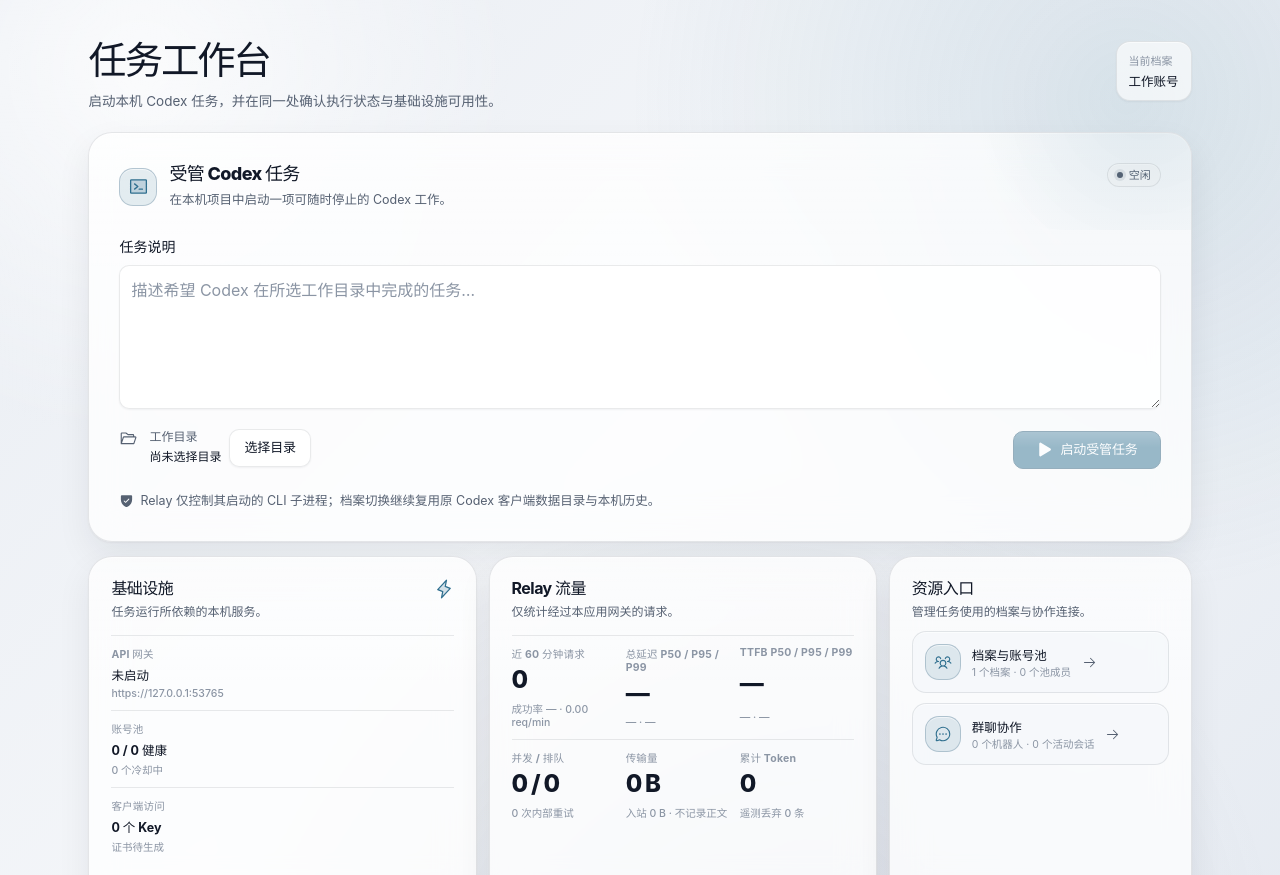
Test: Dashboard managed Codex task › starts one managed task only after a folder and instruction are supplied
Expected: the button "启动受管任务" is disabled, [1013, 431, 1161, 469]
Step 1. Type "检查当前改动" into the text box labelled "任务说明" → (640, 337), box [119, 265, 1161, 409]
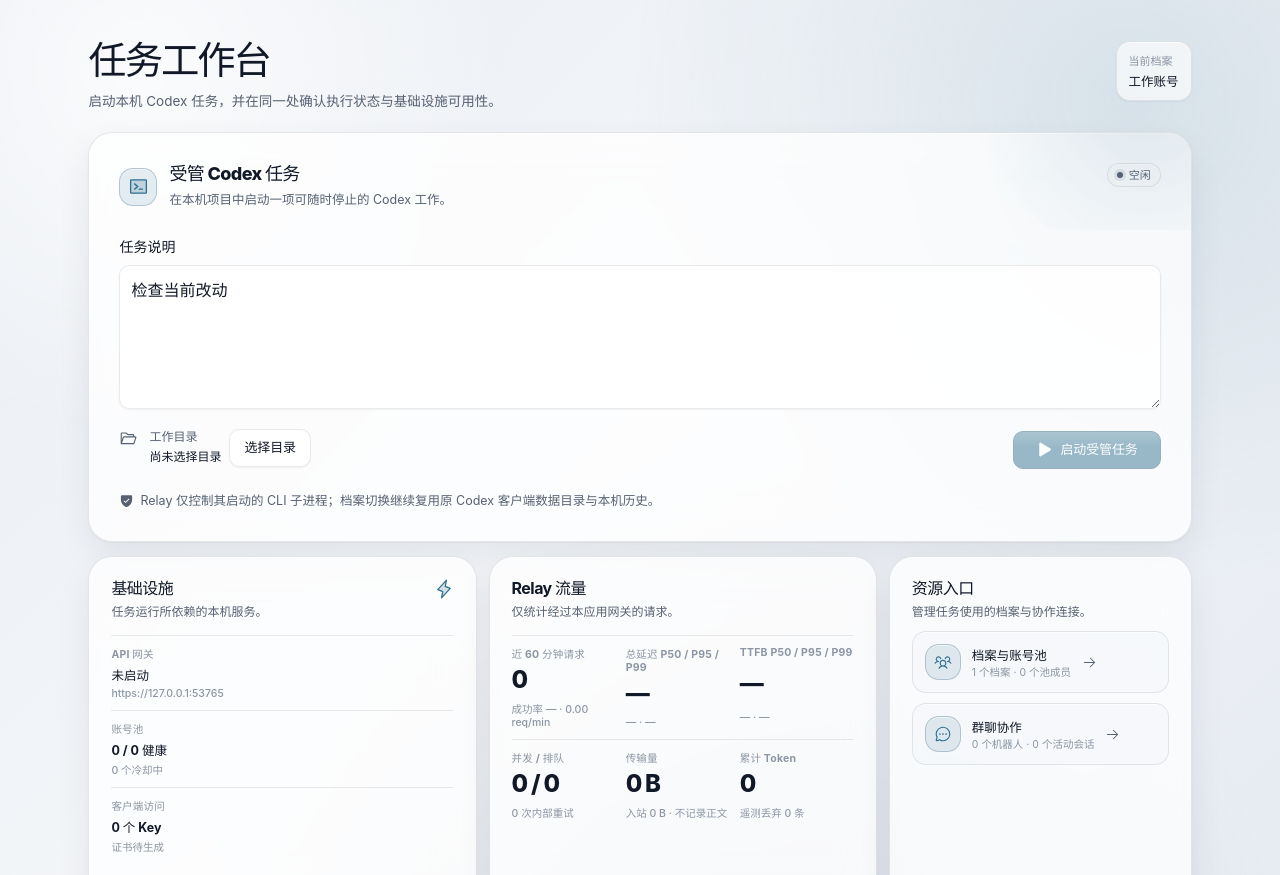
Step 2. Click the button "选择目录" → (270, 448), box [229, 429, 311, 467]
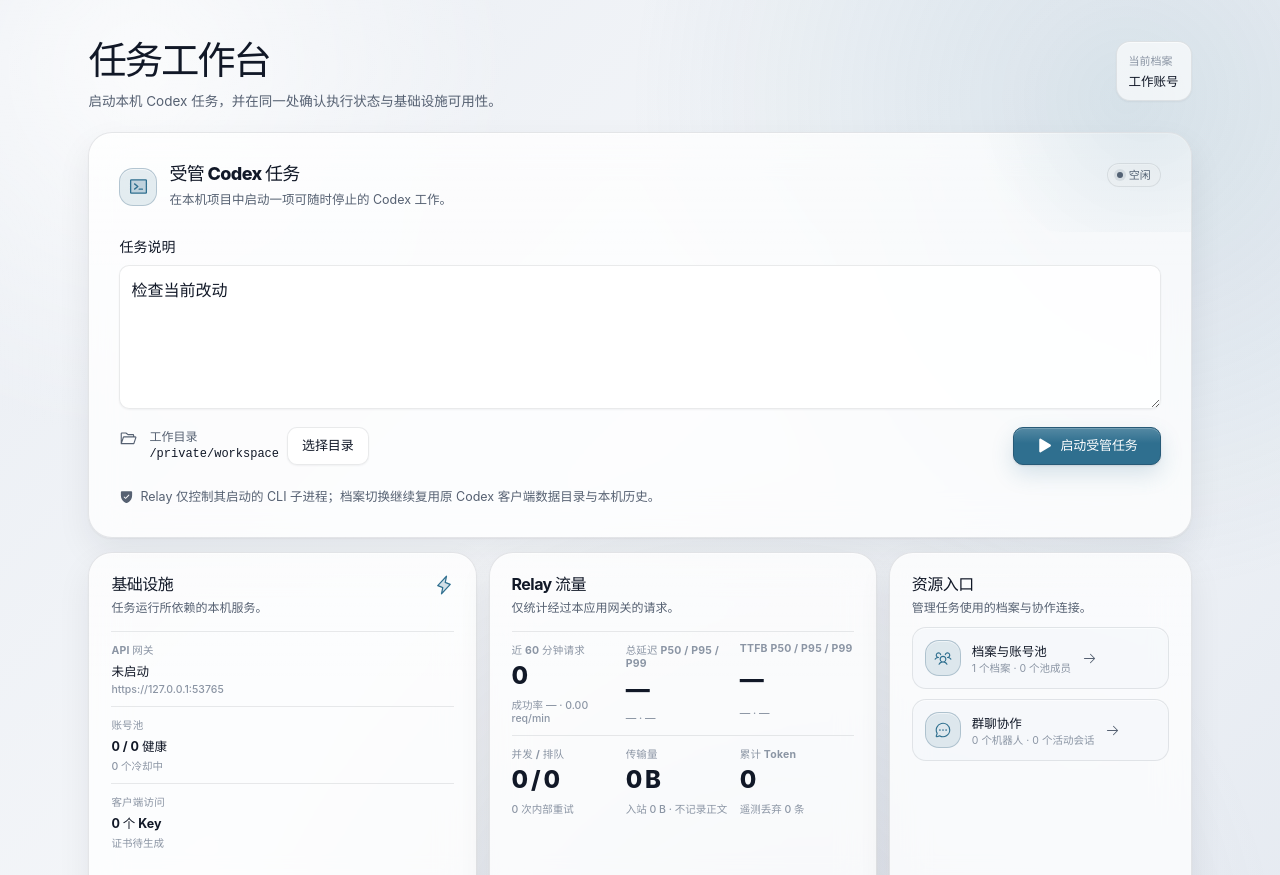
Expected: the text "/private/workspace" is shown, [149, 447, 279, 461]
Step 3. Click the button "启动受管任务" → (1087, 446), box [1013, 427, 1161, 465]
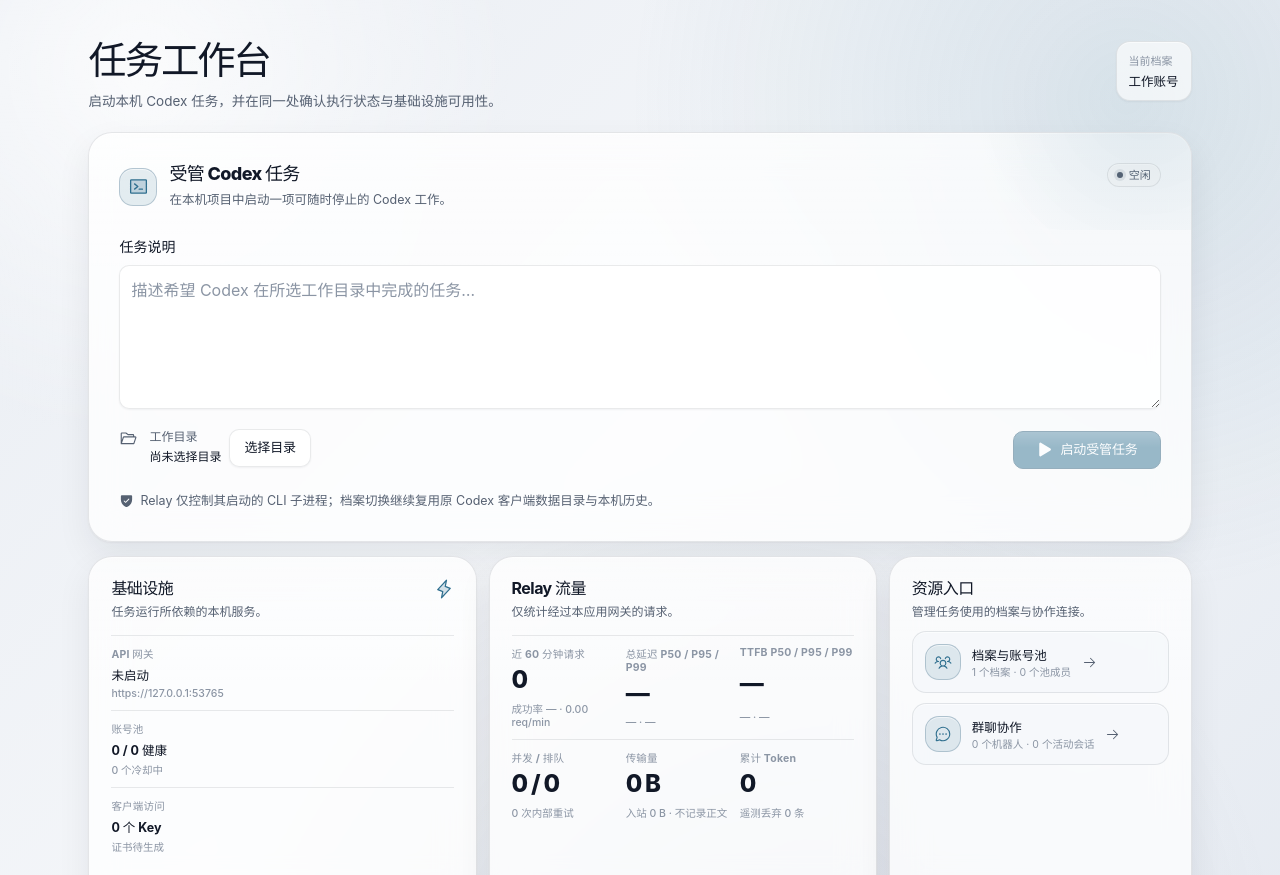
Expected: the text box labelled "任务说明" is empty, [119, 265, 1161, 409]
Expected: the text "/private/workspace" is gone
